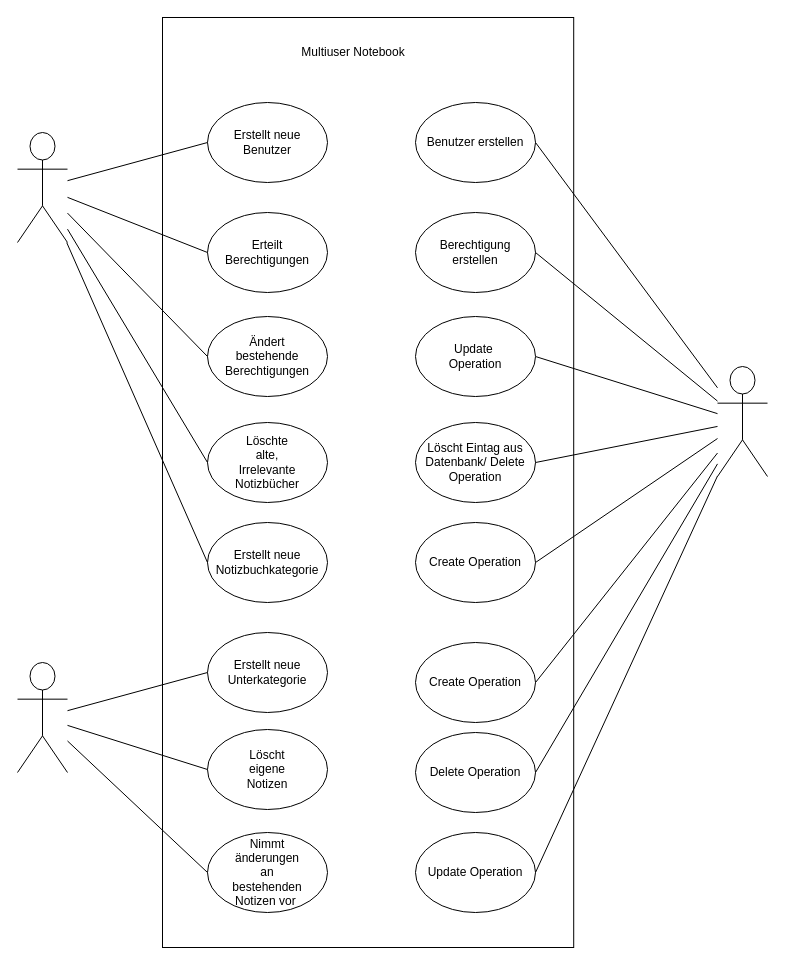
Some shapes in this 785 by 965 pixel diagram are drawn without their labels. Here are the shapes that lost their labels. From the top down, the centre of each, then its label:
[42,187]: ADMIN
[742,421]: SYSTEM
[42,717]: USER
